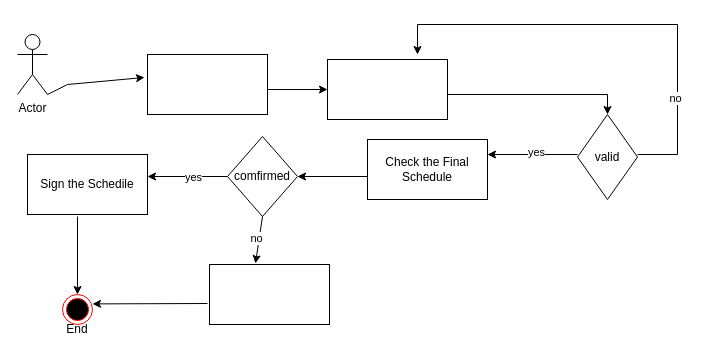
Image size: 703x362. Some labels were removed from this diagram. Each missing label, with the box of its shape:
Download the list of available course: (146, 54, 268, 114)
go back: (208, 264, 330, 324)
select the course: (326, 58, 448, 120)
